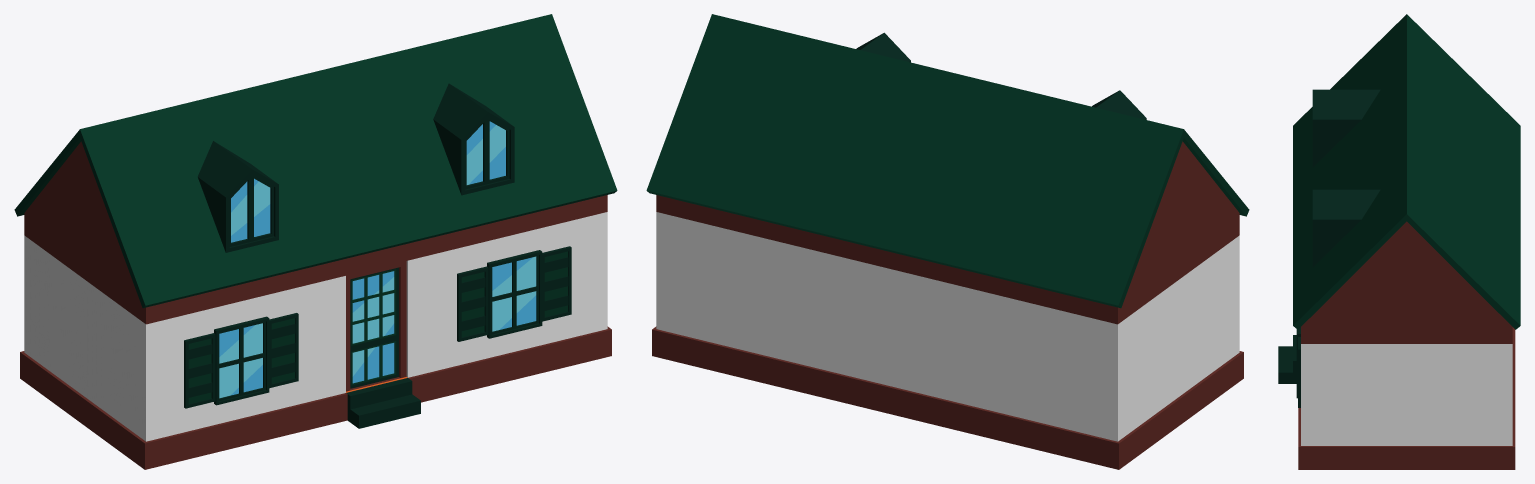
Rendered from Env_ResidentBuilding_05.fbx.
3 views of the same model, side by side, from view 1: azimuth 30°, elevation 25°; view 2: azimuth 150°, elevation 25°; view 3: azimuth 270°, elevation 25° (orthographic). The views are drawn at different scales.
Parts seen in each view (by area): view 1: Env_ResidentBuilding_05; view 2: Env_ResidentBuilding_05; view 3: Env_ResidentBuilding_05.
Boxes of the visible parts, x1,y1,x2,y2 form: Env_ResidentBuilding_05: [14, 14, 617, 469]; Env_ResidentBuilding_05: [646, 14, 1249, 469]; Env_ResidentBuilding_05: [1278, 14, 1520, 469].
Size of the model in its own units: 1163 by 696 by 595.
